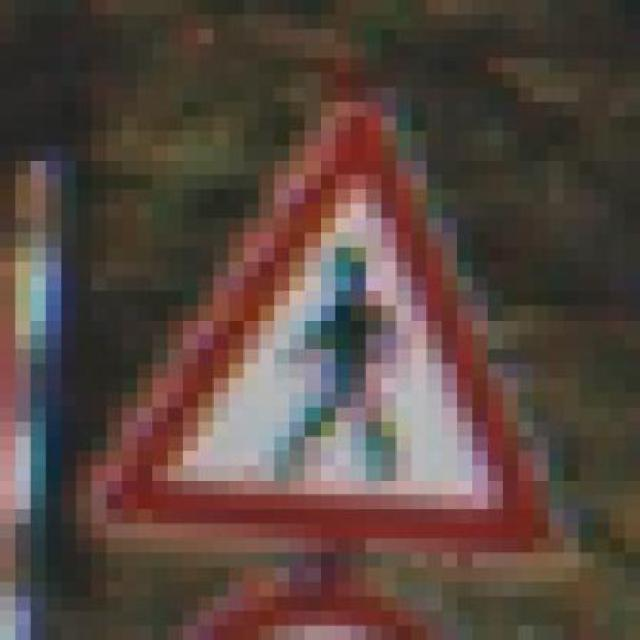Pedestrian Crossing: (61, 87, 594, 567)
